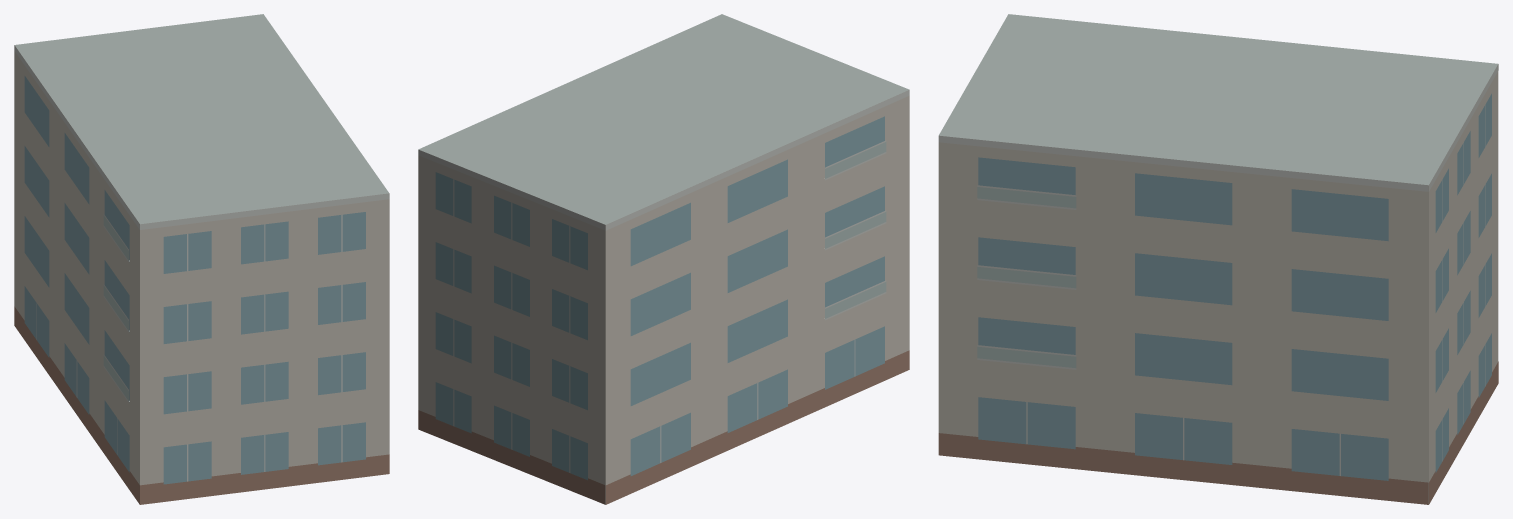
File: survey-upis-32538499.glb
The picture shows the model from 3 angles, left to right: view 1: azimuth 30°, elevation 25°; view 2: azimuth 150°, elevation 25°; view 3: azimuth 270°, elevation 25°; orthographic projection. The views are drawn at different scales.
Parts seen in each view (by area): view 1: survey-upis-32538499.tmp; view 2: survey-upis-32538499.tmp; view 3: survey-upis-32538499.tmp.
Part boxes in pixels (bbox=[...]): survey-upis-32538499.tmp: bbox=[14, 14, 389, 504]; survey-upis-32538499.tmp: bbox=[418, 14, 909, 504]; survey-upis-32538499.tmp: bbox=[938, 14, 1498, 504].
Bounding box in the file's own units: 13.51 × 11.75 × 18.66.
